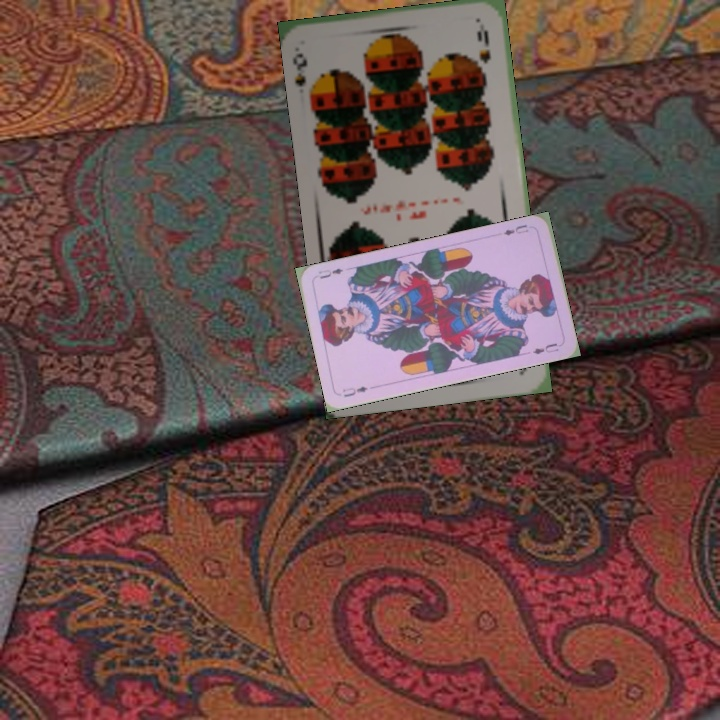EU: (499, 220, 531, 238), (339, 382, 371, 400)
S9: (289, 49, 320, 102)
